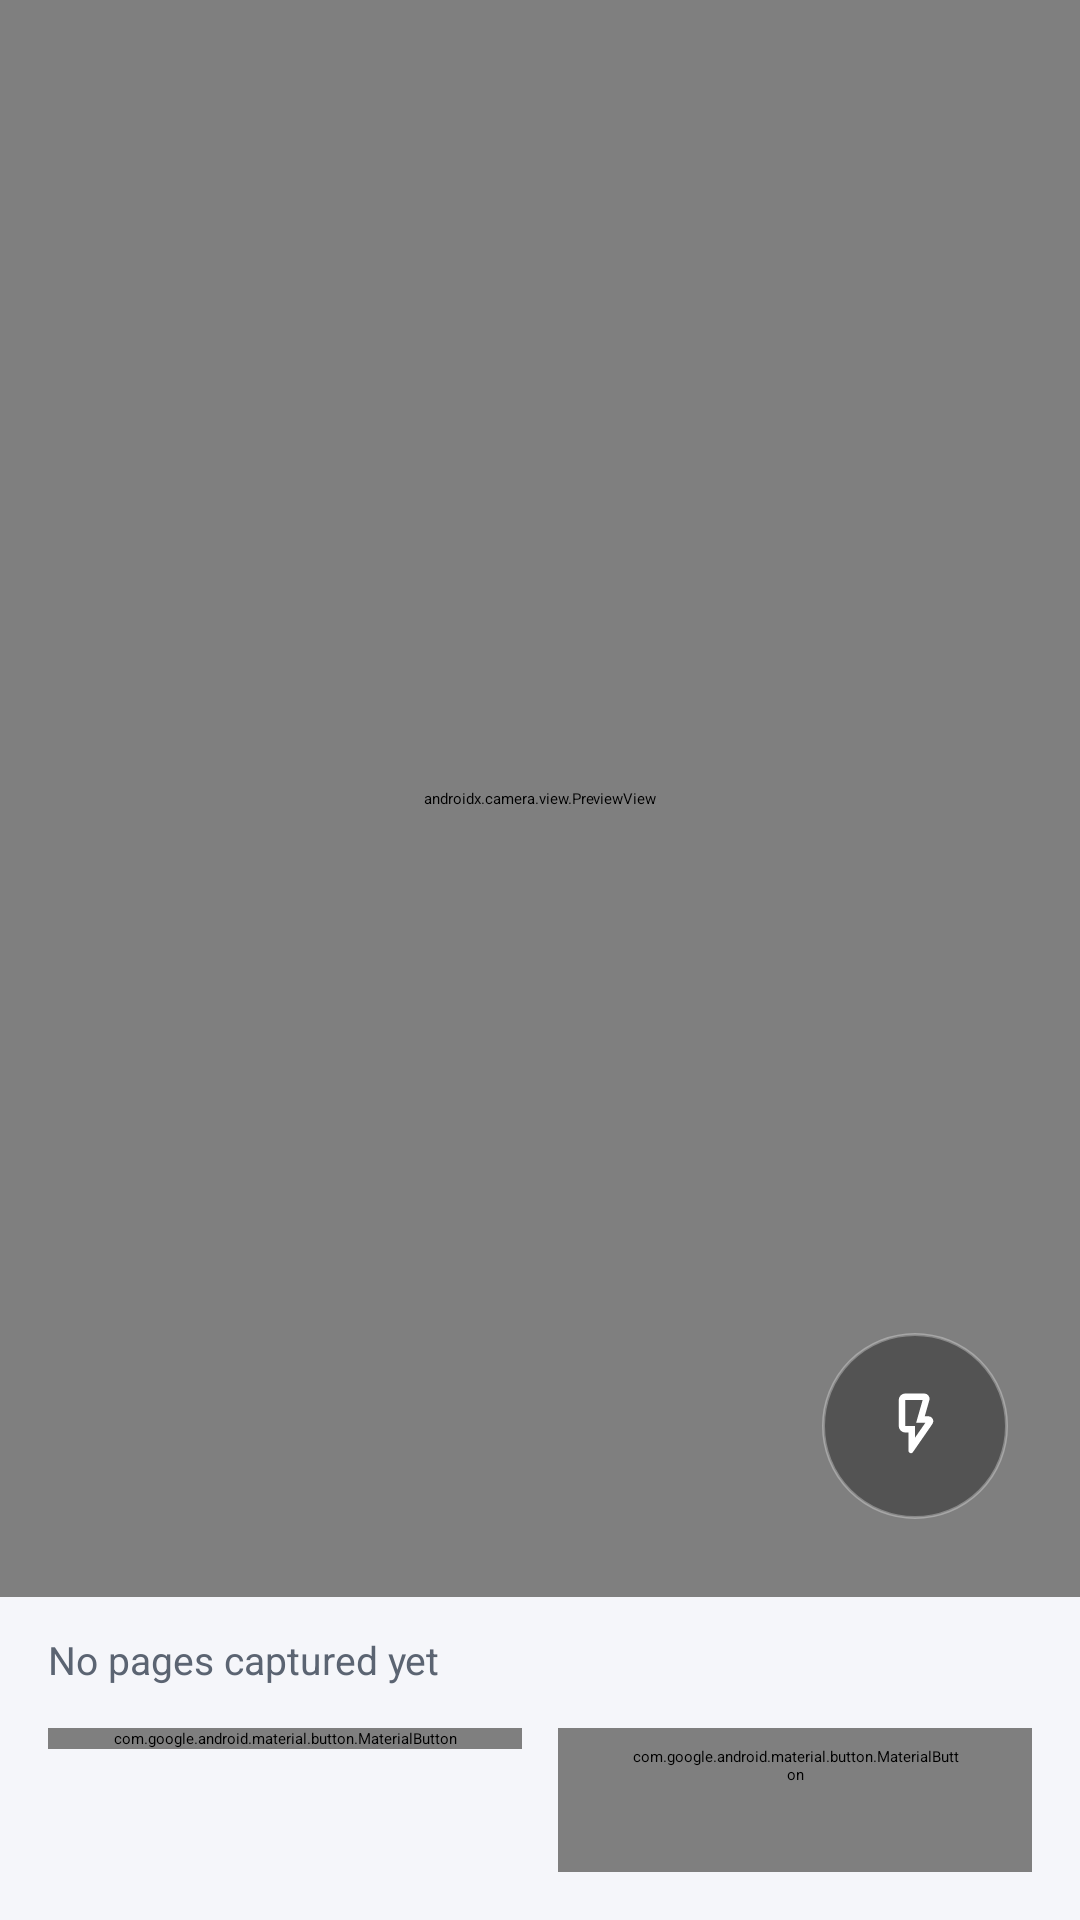

Where icons sit on this 1080 x 1920 app screen, as (x1=x1, y1=y1, x2=x2, y2=y2):
Torch: (x1=822, y1=1333, x2=1008, y2=1519)
